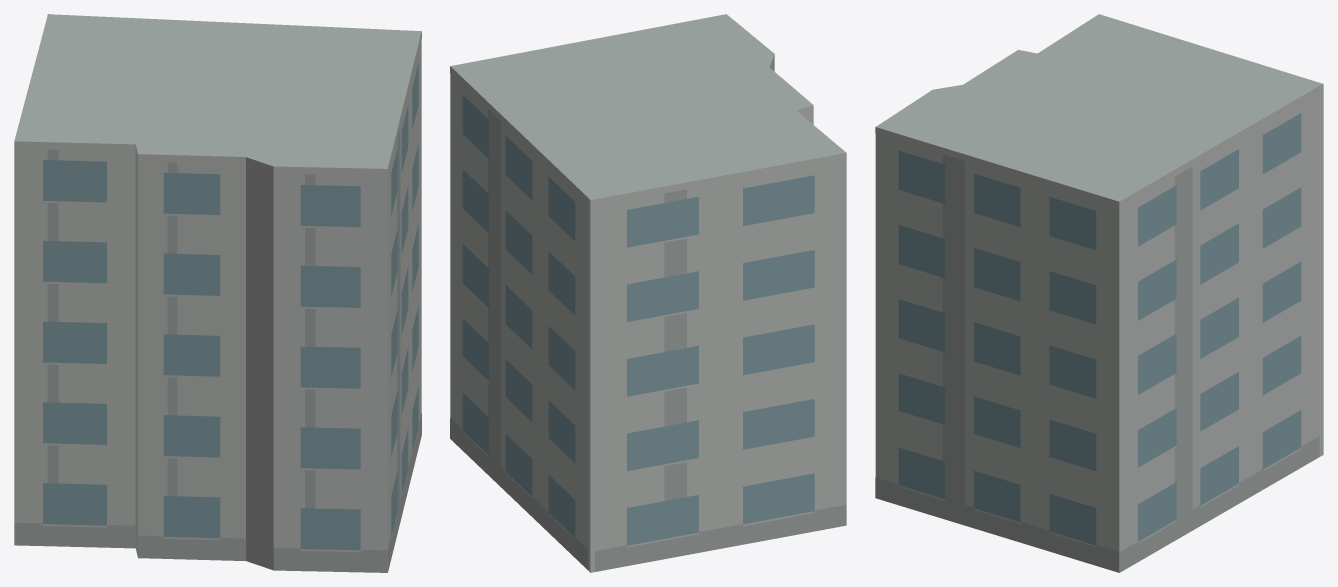
File: residential-57b0d21c-271e-4437-a4c7-1ecc24414960.glb
3 renders of one model, left to right at view 1: azimuth 30°, elevation 25°; view 2: azimuth 150°, elevation 25°; view 3: azimuth 270°, elevation 25°, orthographic. The views are drawn at different scales.
Parts seen in each view (by area): view 1: residential-57b0d21c-271e-4437-a4c7-1ecc24414960.tmp; view 2: residential-57b0d21c-271e-4437-a4c7-1ecc24414960.tmp; view 3: residential-57b0d21c-271e-4437-a4c7-1ecc24414960.tmp.
Part boxes in pixels (box(x1,y1,x2,y2)): residential-57b0d21c-271e-4437-a4c7-1ecc24414960.tmp: box(14, 14, 421, 572); residential-57b0d21c-271e-4437-a4c7-1ecc24414960.tmp: box(450, 14, 846, 572); residential-57b0d21c-271e-4437-a4c7-1ecc24414960.tmp: box(875, 14, 1323, 572).
Size of the model in its own units: 14.32 by 13.2 by 14.44.
